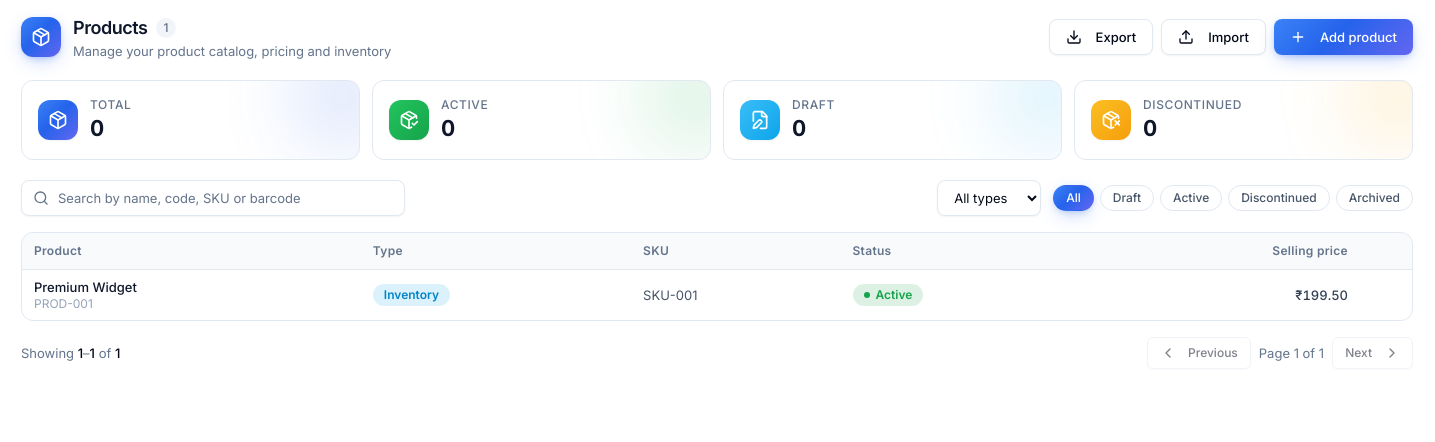
it: ProductsView › surfaces an export error without downloading
Click the button "Export": (1101,37) [1049,19,1153,55]
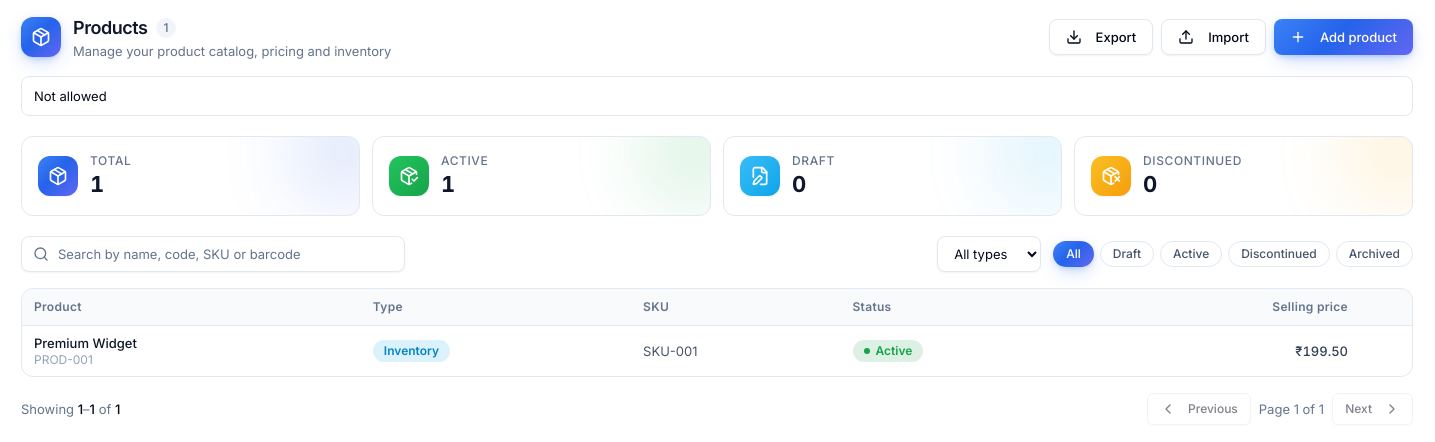
Now the text "Not allowed" is shown, box [21,76,1413,116]
